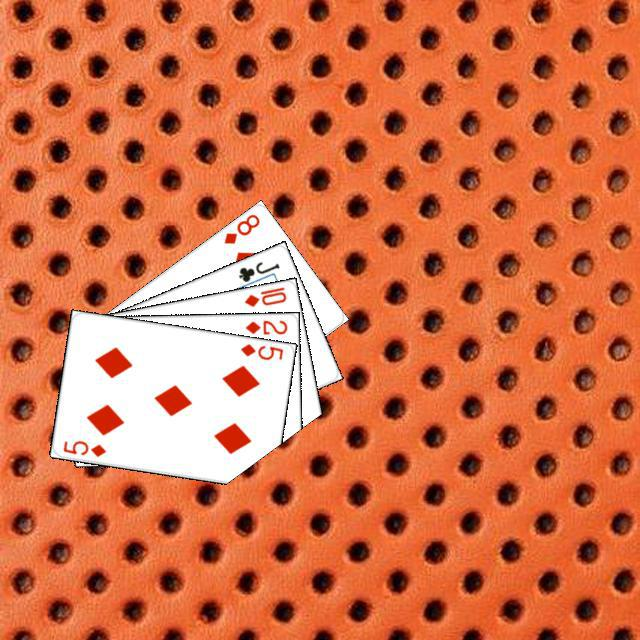10d: (239, 282, 288, 308)
2d: (240, 315, 289, 336)
5d: (235, 338, 285, 362), (58, 436, 108, 459)
8d: (219, 209, 261, 246)
Jc: (233, 256, 281, 284)
